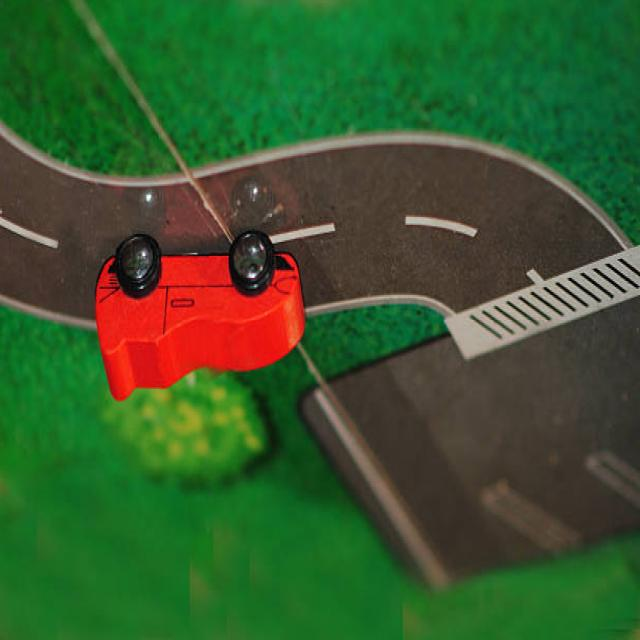Car: (94, 231, 307, 404)
